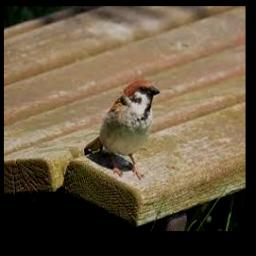Sparrow: (84, 81, 160, 179)
